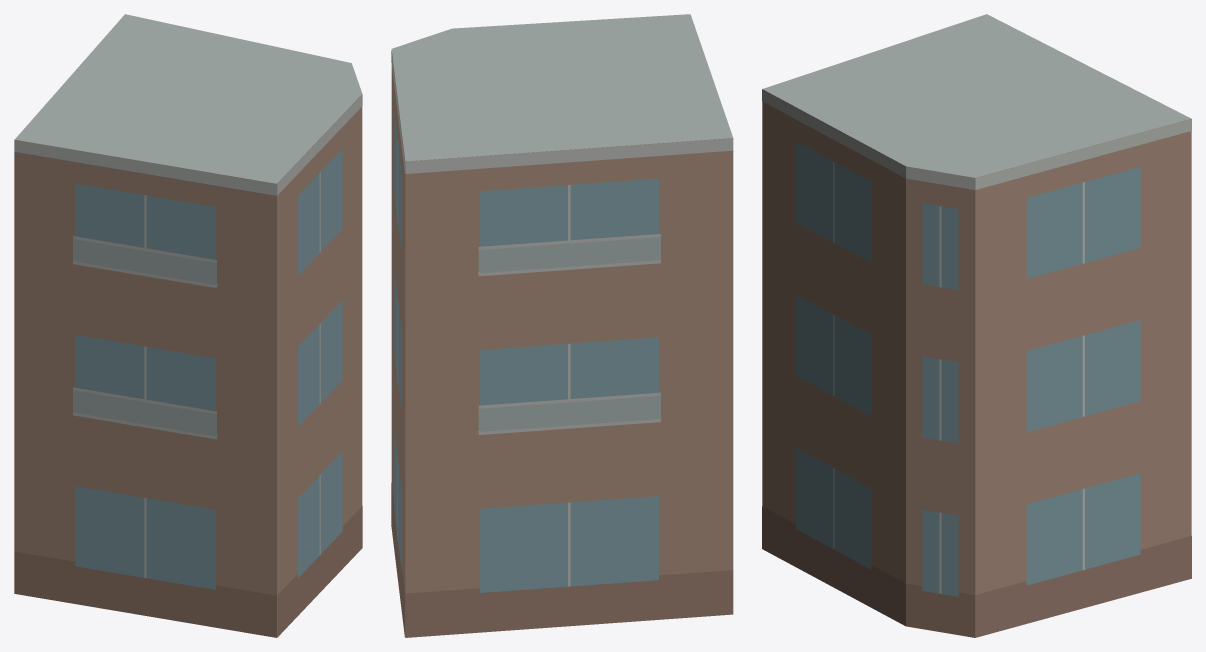
Rendered from survey-upis-32495827.glb.
3 renders of one model, left to right at view 1: azimuth 30°, elevation 25°; view 2: azimuth 150°, elevation 25°; view 3: azimuth 270°, elevation 25°, orthographic. The views are drawn at different scales.
Parts seen in each view (by area): view 1: survey-upis-32495827.tmp; view 2: survey-upis-32495827.tmp; view 3: survey-upis-32495827.tmp.
Boxes of the visible parts, x1,y1,x2,y2 form: survey-upis-32495827.tmp: [14, 14, 362, 637]; survey-upis-32495827.tmp: [391, 14, 733, 637]; survey-upis-32495827.tmp: [762, 14, 1191, 637].
Bounding box in the file's own units: 7.04 × 9.2 × 7.79.
